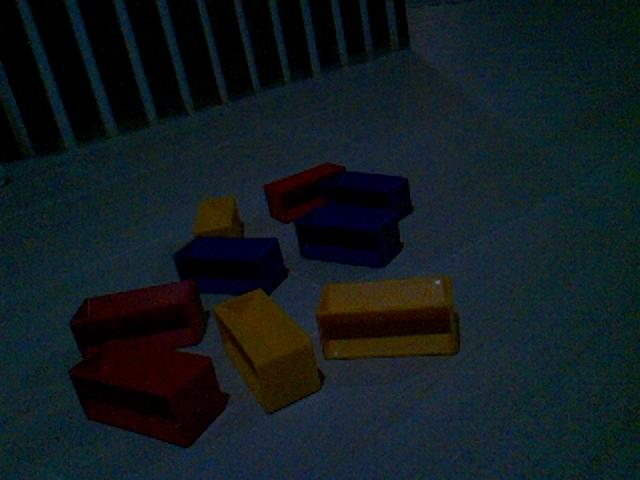blue: (173, 236, 289, 297), (295, 206, 403, 269), (321, 171, 413, 223)
red: (68, 340, 227, 449), (69, 279, 209, 360), (264, 163, 348, 225)
yellow: (213, 288, 323, 415), (316, 275, 460, 362), (193, 195, 244, 239)
